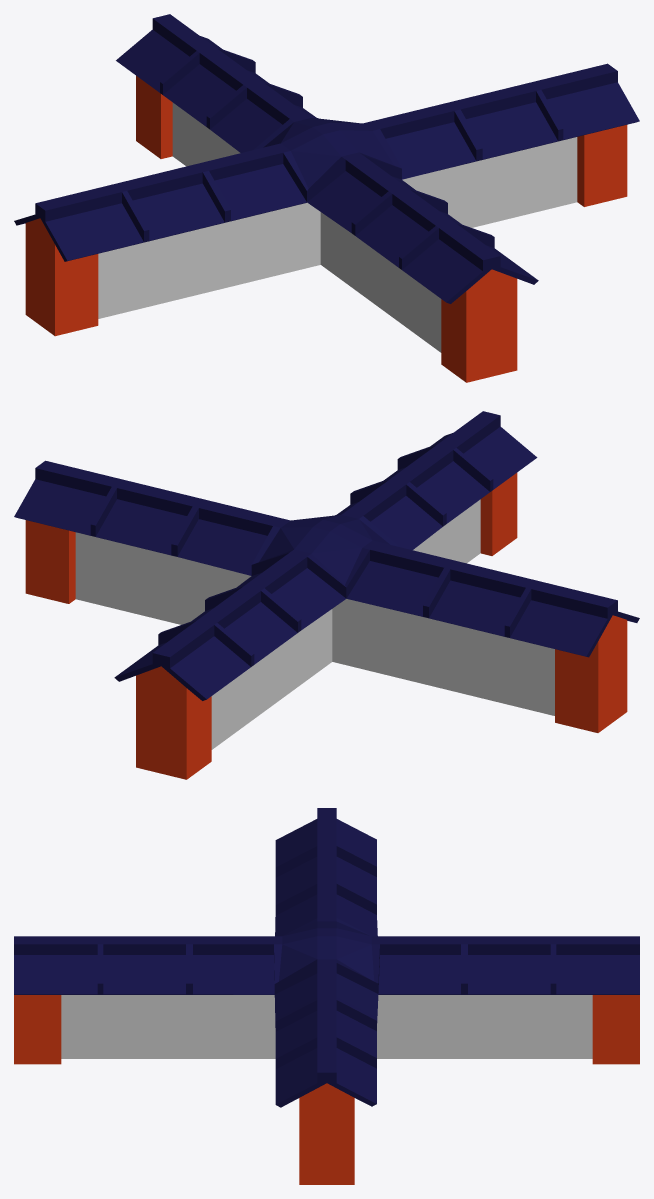
Rendered from Wall-Closs.fbx.
3 renders of one model, top to bottom at view 1: azimuth 30°, elevation 25°; view 2: azimuth 150°, elevation 25°; view 3: azimuth 270°, elevation 25°, orthographic. The views are drawn at different scales.
Visible parts, largest first — view 1: Wall Closs; view 2: Wall Closs; view 3: Wall Closs.
Part boxes in pixels (x1,y1,x2,y2): Wall Closs: (14,14,639,382); Wall Closs: (14,411,639,779); Wall Closs: (14,808,639,1184).
Size of the model in its own units: 1000 by 212 by 1000.
